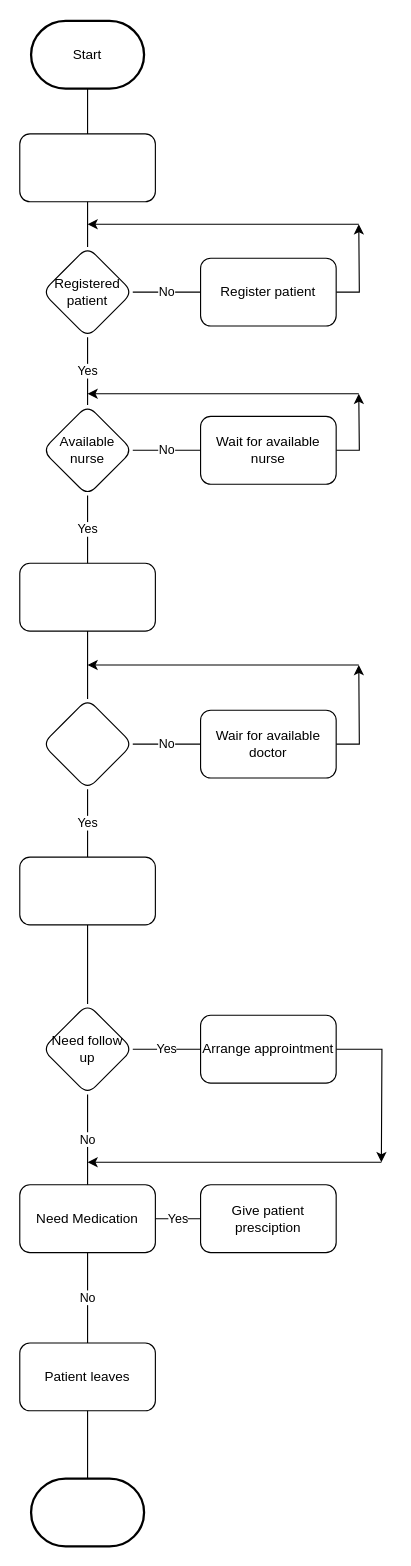
This 411x1566 diagram has some shape labels left out. The shapes that lost their labels are listed below. From the top down, each one's centre as x and y in pixels, then its label:
At pixel 87 167: "Patient arrives".
At pixel 87 596: "Record health condition".
At pixel 87 743: "Available doctor".
At pixel 87 890: "Assign patient to doctor".
At pixel 87 1512: "End".
